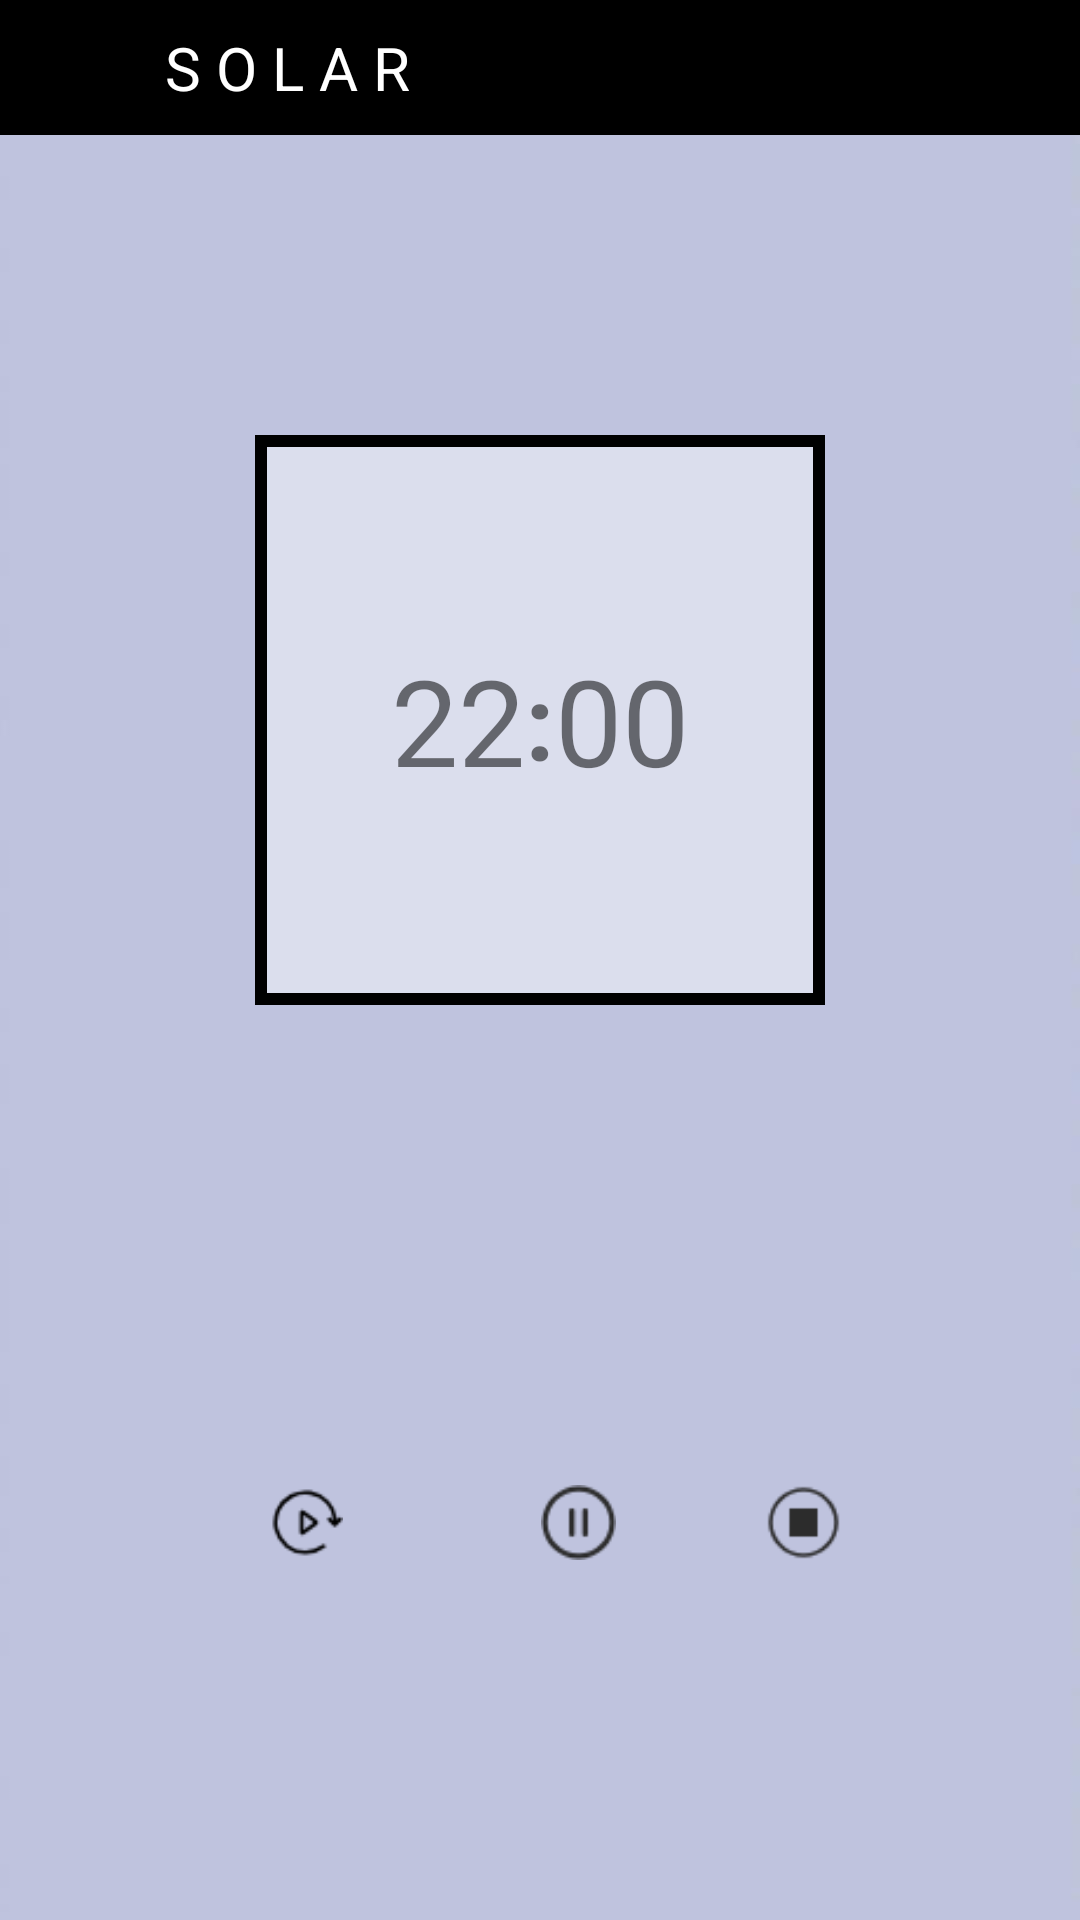

Named icons in this screenshot (1080 × 1920) and their bounding boxes, (x1, y1, x2, y2):
backrestart: (272, 1489, 343, 1556)
